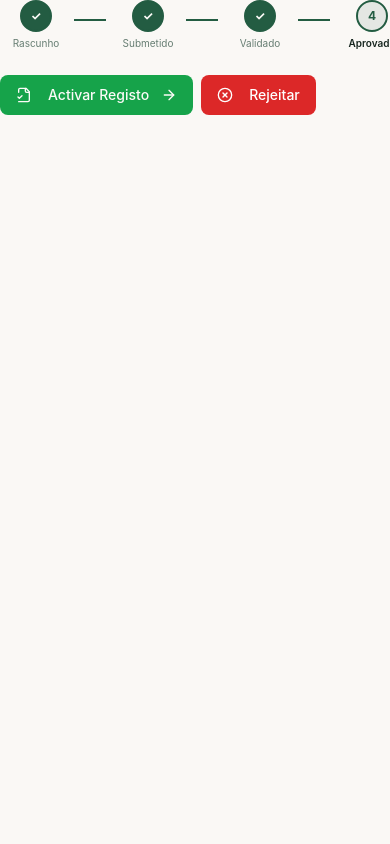
Test: WorkflowActions — E2E DOM: transição approved → issued/active › Diálogo de confirmação — badges Aprovado → destino › cooperative: badge destino mostra "Activo"
This screenshot has width=390, height=844.
Click the button "Activar Registo" at (97, 95), box [0,75,193,115]
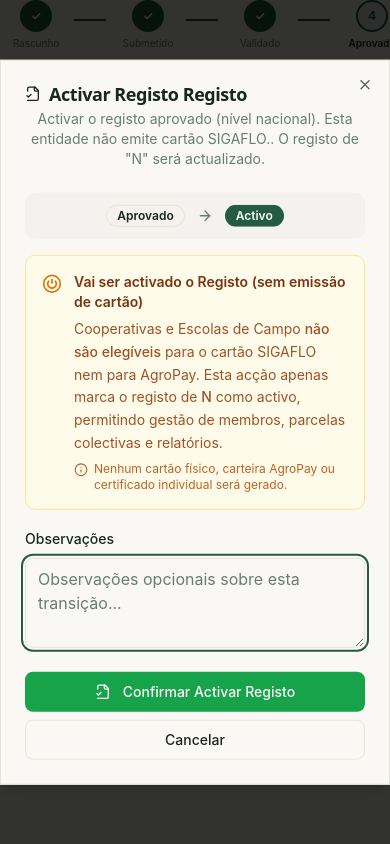
expect the text "Aprovado" is shown: met, box [106,205,185,227]
expect the text "Activo" is shown: met, box [225,205,284,227]
